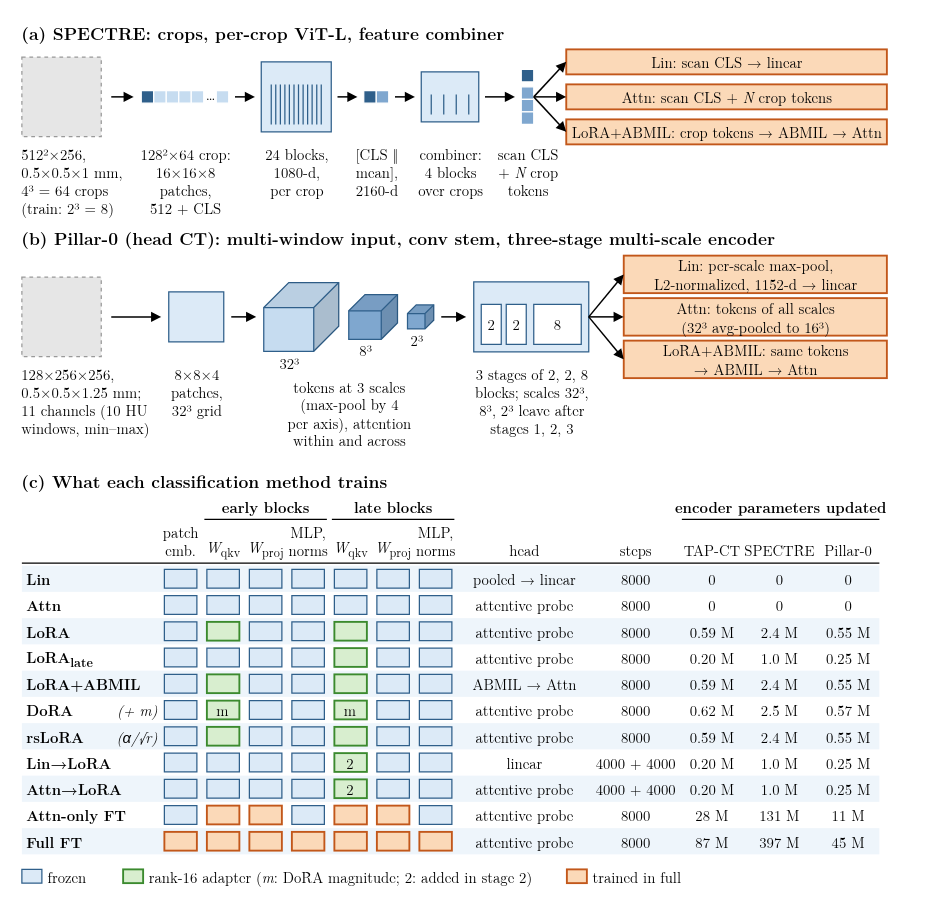
This 926x908 diagram has some shape labels left out. Grey dashed boxes stand in for pictures. The shapes that lost their labels are listed below. From the top down, each one's box as (x1, y1, x2, y2) in pixels, then its label:
(260, 61, 331, 132): ViT-L
(168, 291, 224, 342): conv stem
(472, 281, 589, 352): 384-d
